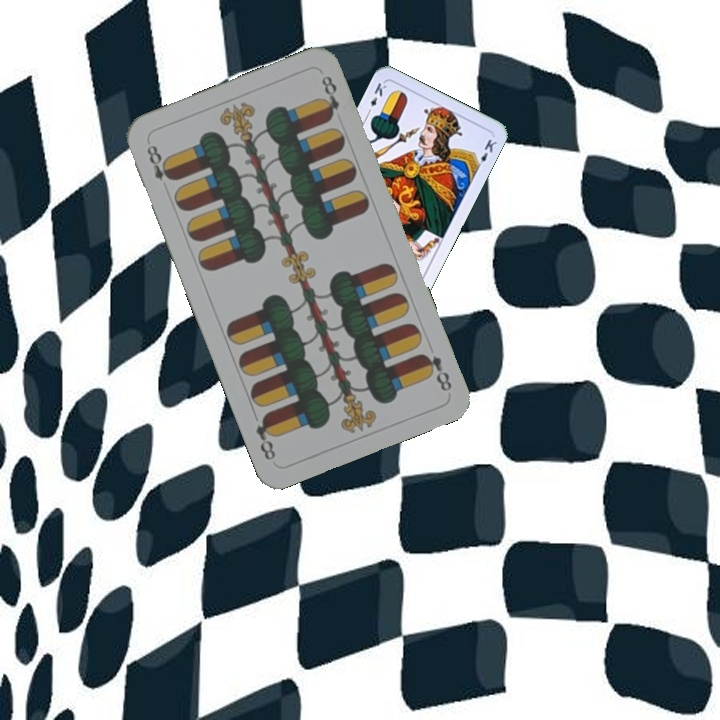E8: (416, 349, 455, 394), (142, 141, 177, 184)
EK: (363, 78, 389, 117)
